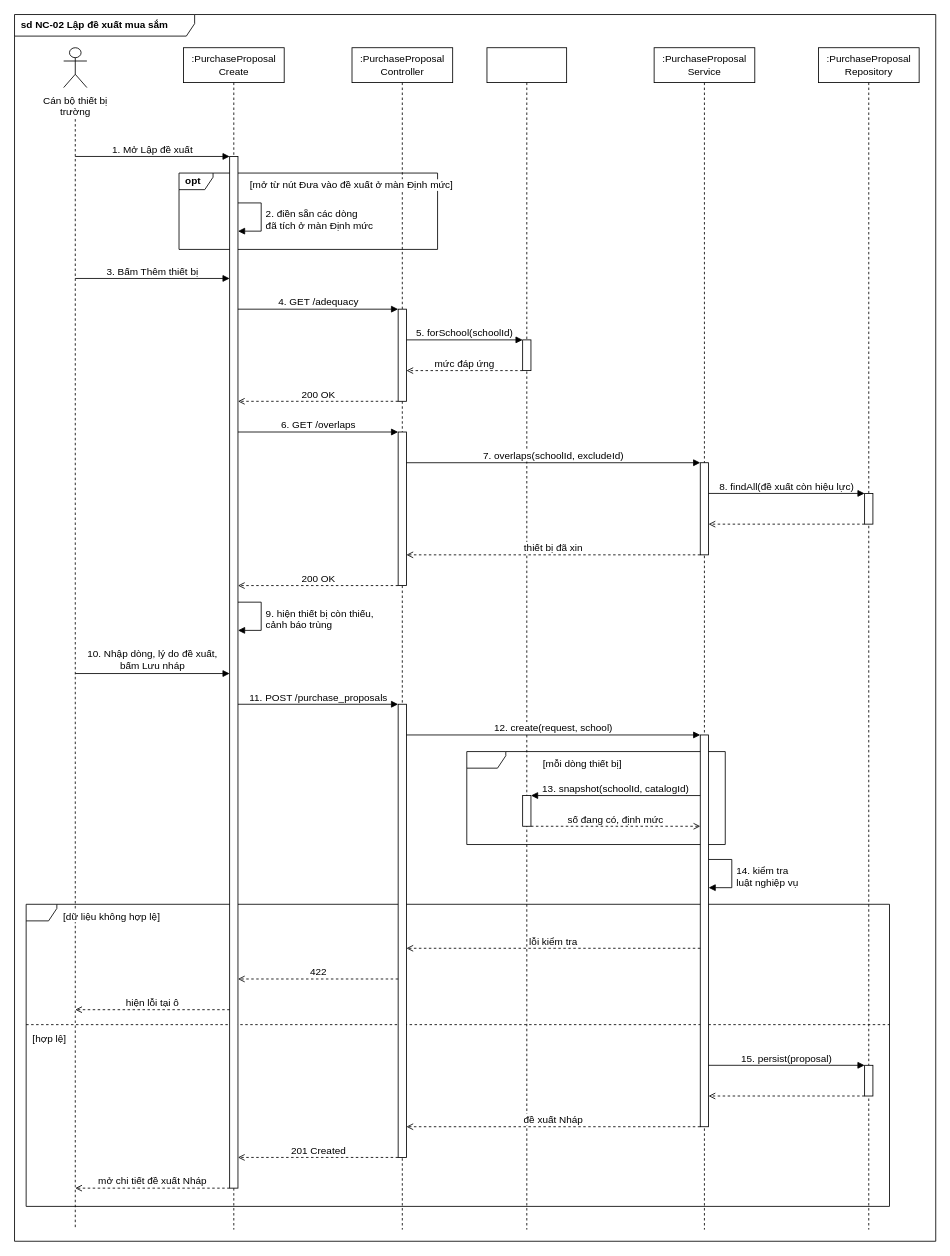
Image size: 950x1256. Some labels were removed from this diagram. The box of each missing label's shape, as (x1, y1, x2, y2) in pixels:
:Adequacy Service: (486, 47, 567, 83)
alt: (25, 903, 890, 1206)
loop: (466, 751, 725, 845)
